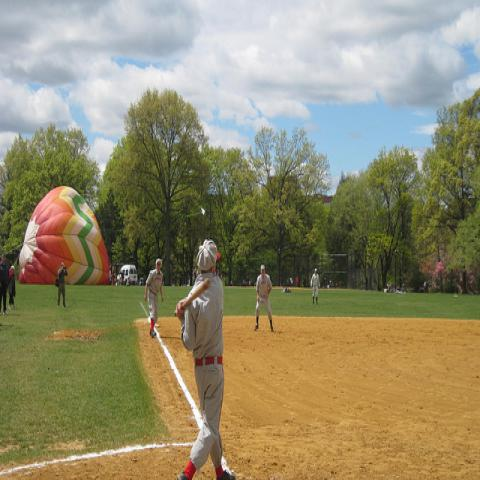car: (116, 265, 138, 285), (383, 284, 393, 292)
